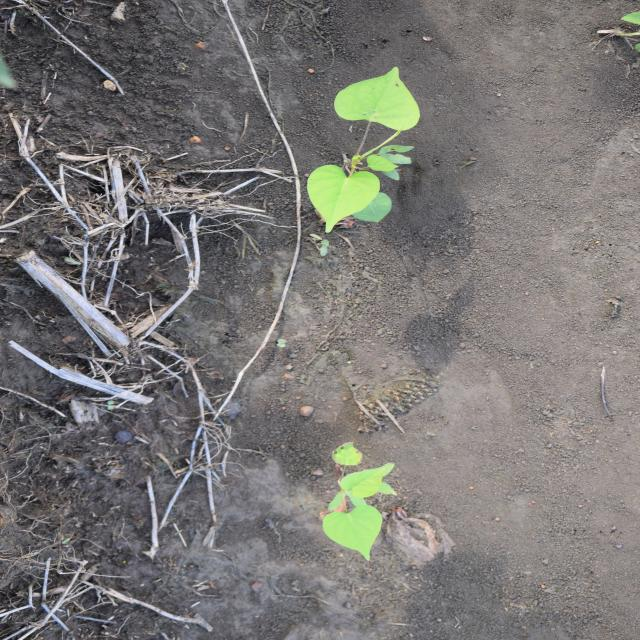MorningGlory: (304, 64, 424, 235), (321, 440, 403, 564)
